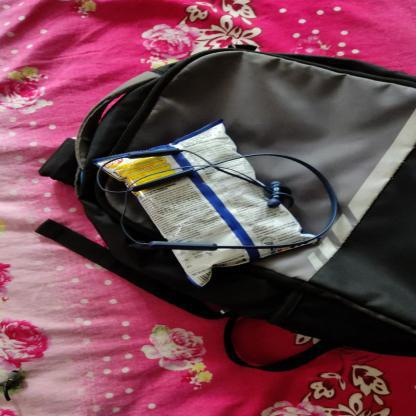indian_magic_masala: (94, 127, 302, 286)
